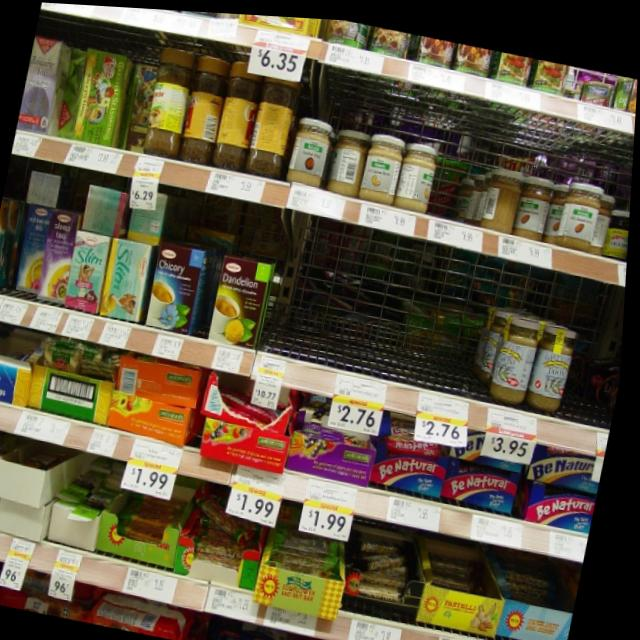q118: (209, 244, 282, 345)
